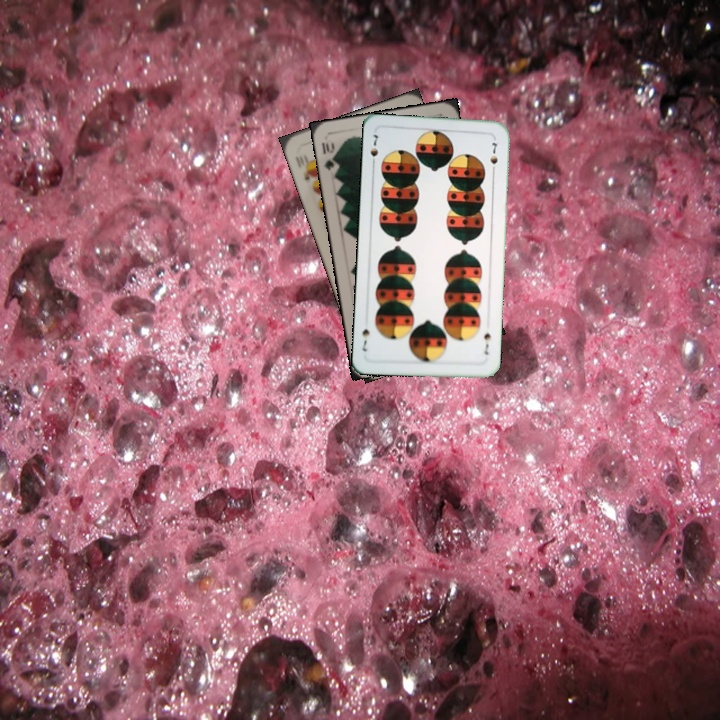E10: (291, 152, 316, 183)
G10: (318, 138, 340, 173)
S7: (366, 131, 380, 169), (480, 329, 493, 357)
